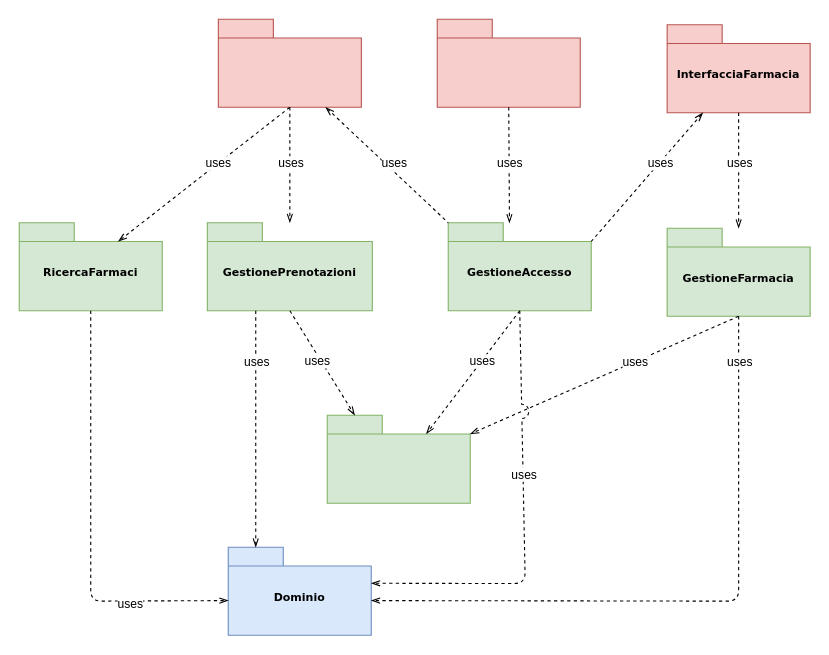
Image size: 829x655. Some labels were removed from this diagram. Here are the shapes that lost their labels. From the top down, the centre of each, then its label:
At (x=289, y=62): "InterfacciaUtente".
At (x=508, y=62): "Interfaccia GestioneAccesso".
At (x=398, y=458): "Log".
